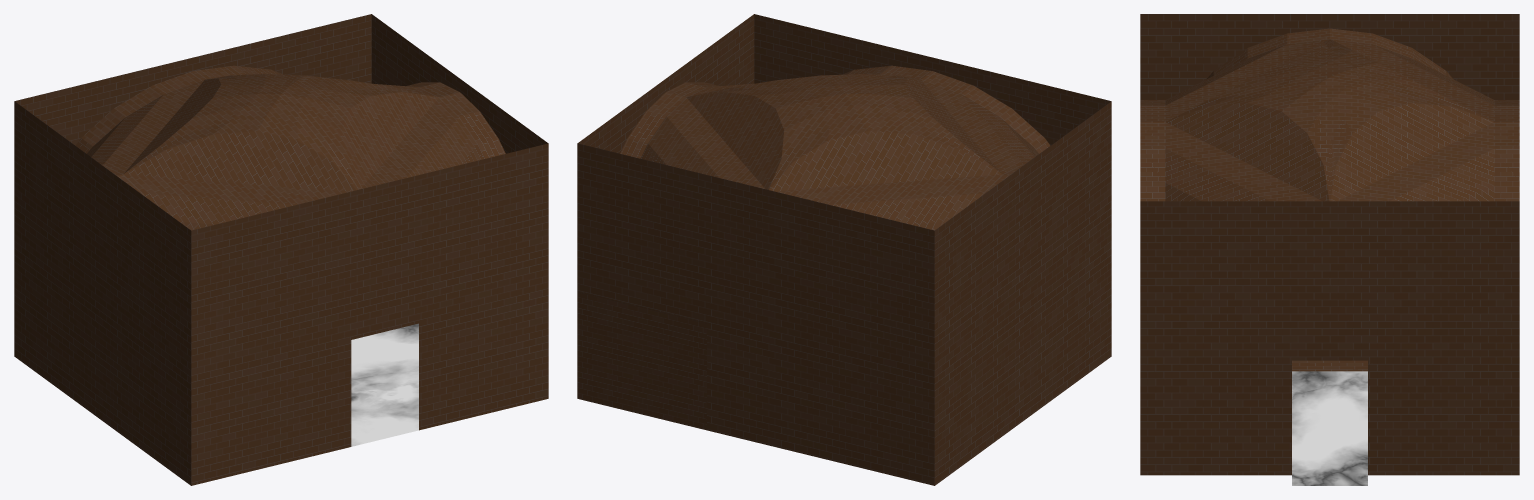
The model's file is Church.fbx.
The picture shows the model from 3 angles, left to right: view 1: azimuth 30°, elevation 25°; view 2: azimuth 150°, elevation 25°; view 3: azimuth 270°, elevation 25°; orthographic projection. The views are drawn at different scales.
Visible parts, largest first — view 1: Church; view 2: Church; view 3: Church.
Part boxes in pixels (x1=…): Church: x1=14, y1=14, x2=548, y2=485; Church: x1=577, y1=14, x2=1111, y2=485; Church: x1=1140, y1=14, x2=1519, y2=485.
Size of the model in its own units: 3700 by 2656 by 3000.
